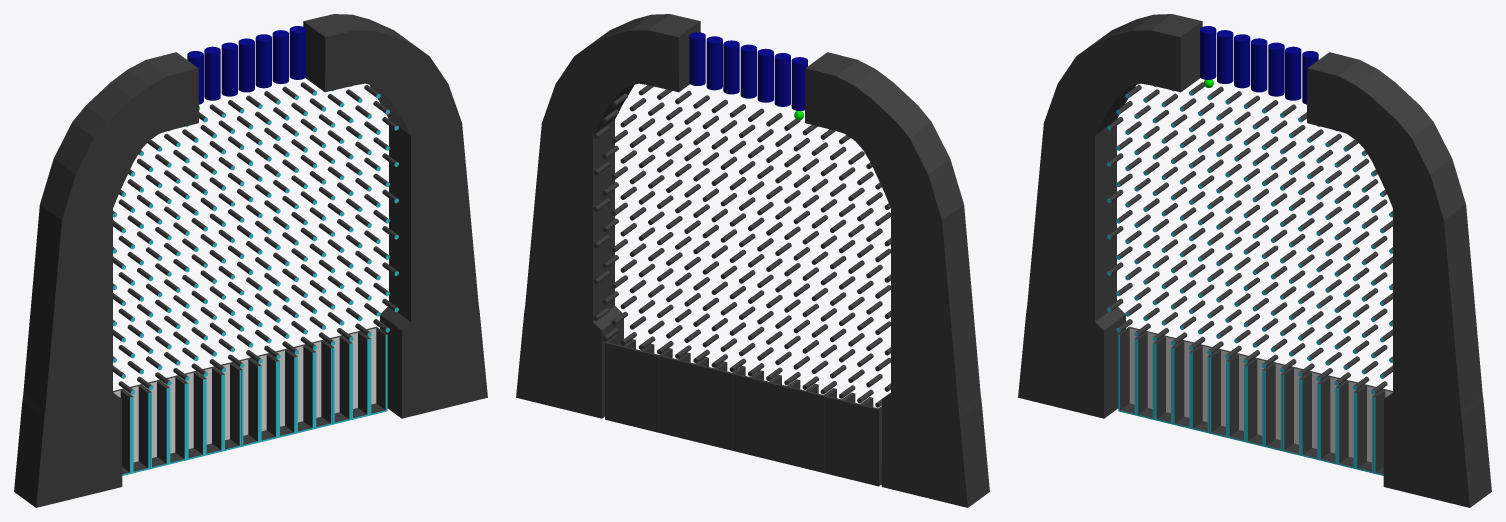
The model's file is the-wall.dae.
3 views of the same model, side by side, from view 1: azimuth 30°, elevation 25°; view 2: azimuth 150°, elevation 25°; view 3: azimuth 330°, elevation 25° (orthographic).
Parts seen in each view (by area): view 1: theWall, Result.010, Result.008, Result.013, Result.009, Result.006, Result.002, Result.012, Result.004, Result.003, Result.014, Result.005 (+10 smaller); view 2: theWall, Result, Result.001, Result.004, Result.012, Result.008, Result.006, Result.002, Result.003, Result.010, Result.009, Result.013 (+11 smaller); view 3: theWall, Result.006, Result.004, Result.010, Result.013, Result.008, Result.002, Result.001, Result, Result.011, Result.012, Result.005 (+10 smaller).
Part boxes in pixels (x1,y1,x2,y2): theWall: (14,14,487,507); Result.010: (286,344,314,433); Result.008: (249,353,277,442); Result.013: (340,331,369,420); Result.009: (267,349,296,437); Result.006: (212,362,241,451); Result.002: (139,380,168,469); Result.012: (322,335,350,424); Result.004: (176,371,204,460); Result.003: (158,375,186,464); Result.014: (358,326,387,415); Result.005: (194,367,223,455); theWall: (516,14,989,507); Result: (860,397,881,486); Result.001: (842,393,871,481); Result.004: (787,379,816,468); Result.012: (641,344,670,432); Result.008: (714,362,743,450); Result.006: (751,370,779,459); Result.002: (824,388,852,477); Result.003: (806,384,834,472); Result.010: (678,353,706,441); Result.009: (696,357,724,446); Result.013: (623,339,651,428); theWall: (1018,14,1491,507); Result.006: (1227,353,1256,442); Result.004: (1191,344,1219,433); Result.010: (1300,371,1329,460); Result.013: (1355,384,1384,473); Result.008: (1264,362,1292,451); Result.002: (1154,335,1183,424); Result.001: (1136,331,1165,419); Result: (1118,326,1146,415); Result.011: (1319,375,1347,464); Result.012: (1337,380,1365,468); Result.005: (1209,349,1237,437).
Size of the model in its own units: 23.66 by 2.08 by 20.03.
